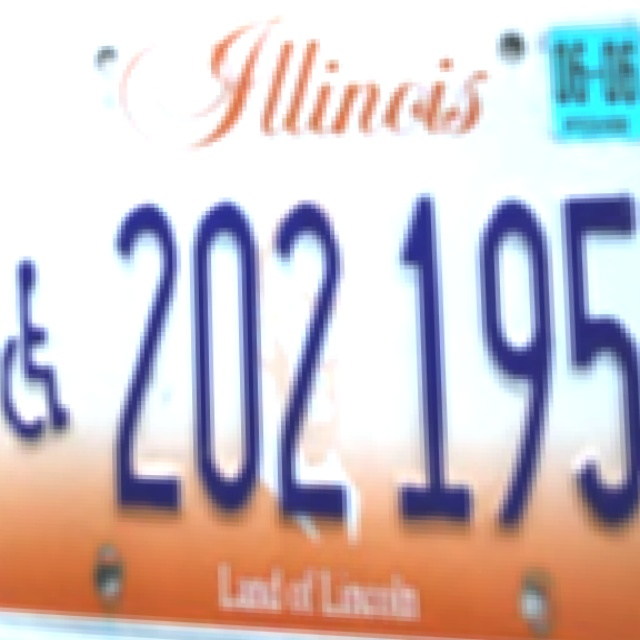ISA: (0, 250, 69, 444)
